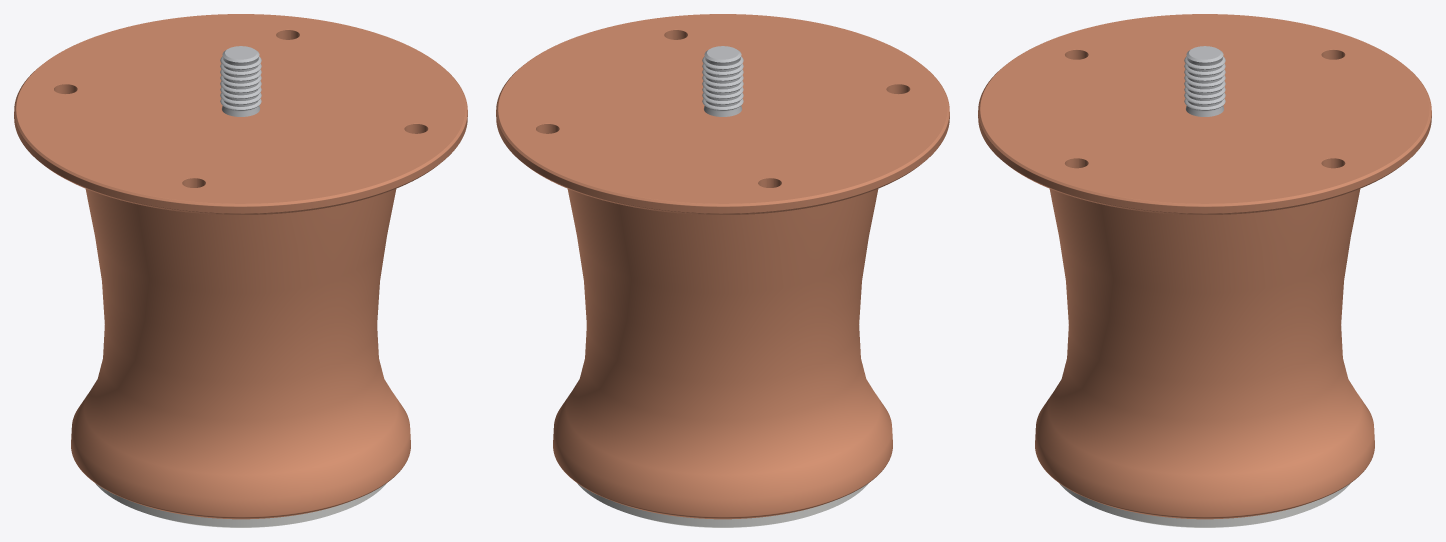
File: sofa-legs-1268.glb
3 views of the same model, side by side, from view 1: azimuth 30°, elevation 25°; view 2: azimuth 150°, elevation 25°; view 3: azimuth 270°, elevation 25° (orthographic).
Parts seen in each view (by area): view 1: Body, Plate, Stud, Glide; view 2: Body, Plate, Stud, Glide; view 3: Body, Plate, Stud, Glide.
Boxes of the visible parts, x1,y1,x2,y2 form: Body: (71, 189, 410, 519); Plate: (14, 14, 467, 214); Stud: (220, 46, 261, 116); Glide: (95, 483, 386, 527); Body: (553, 189, 892, 519); Plate: (496, 14, 949, 214); Stud: (702, 46, 743, 116); Glide: (577, 483, 868, 527); Body: (1035, 189, 1374, 519); Plate: (978, 14, 1431, 214); Stud: (1184, 46, 1225, 116); Glide: (1059, 483, 1350, 527).
Size of the model in its own units: 0.088 by 0.0882 by 0.088.
